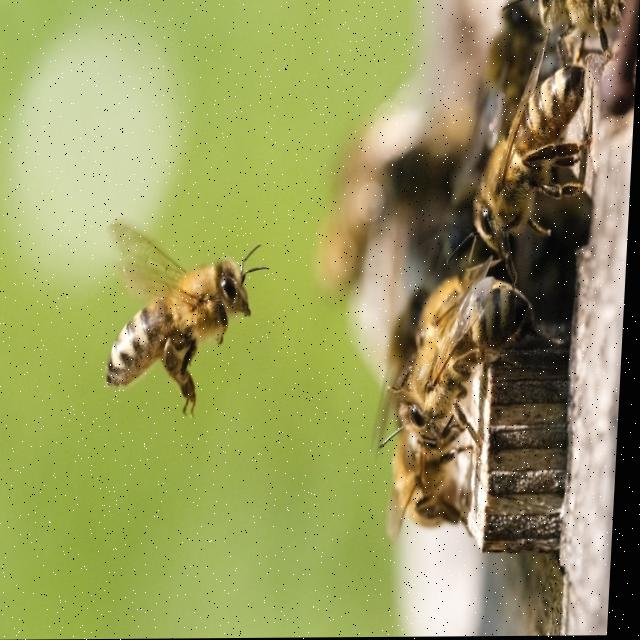Apis-mellifera-scutellata: (392, 262, 533, 540), (101, 214, 262, 419), (461, 50, 597, 264)
